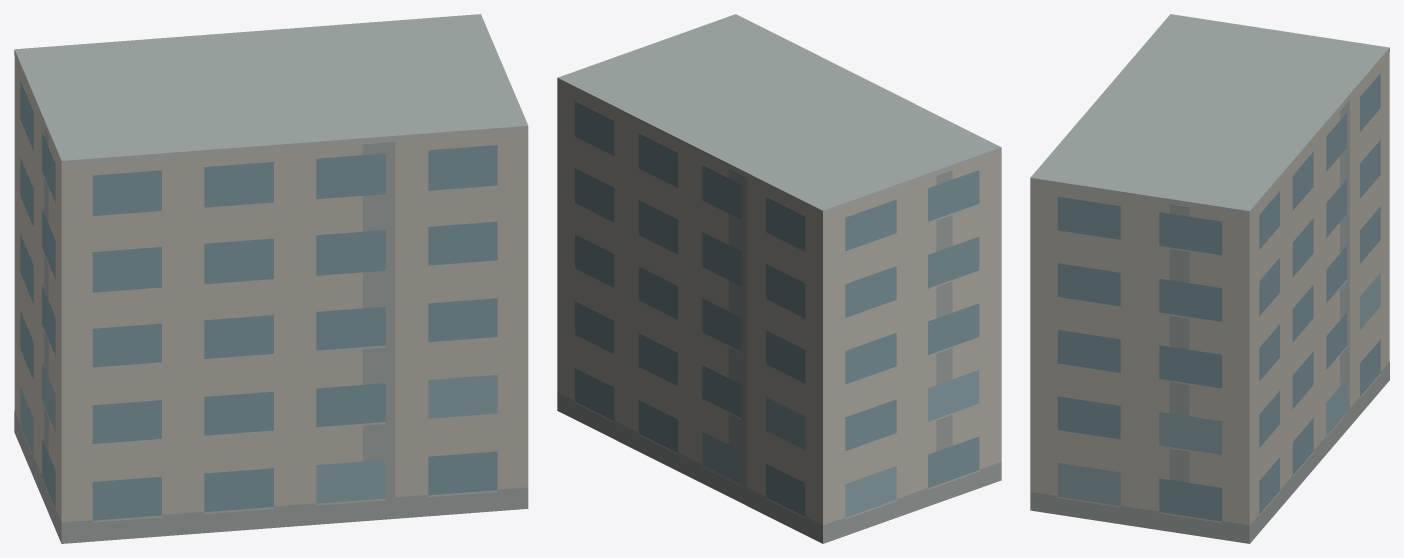
File: residential-7b287af8-32ab-4a2c-ba0b-af9c881b6611.glb
The picture shows the model from 3 angles, left to right: view 1: azimuth 30°, elevation 25°; view 2: azimuth 150°, elevation 25°; view 3: azimuth 270°, elevation 25°; orthographic projection. The views are drawn at different scales.
Parts seen in each view (by area): view 1: residential-7b287af8-32ab-4a2c-ba0b-af9c881b6611.tmp; view 2: residential-7b287af8-32ab-4a2c-ba0b-af9c881b6611.tmp; view 3: residential-7b287af8-32ab-4a2c-ba0b-af9c881b6611.tmp.
Boxes of the visible parts, bbox=[...] form: residential-7b287af8-32ab-4a2c-ba0b-af9c881b6611.tmp: bbox=[14, 14, 528, 543]; residential-7b287af8-32ab-4a2c-ba0b-af9c881b6611.tmp: bbox=[557, 14, 1001, 543]; residential-7b287af8-32ab-4a2c-ba0b-af9c881b6611.tmp: bbox=[1030, 14, 1389, 543].
Size of the model in its own units: 19.39 by 15.25 by 14.94.
